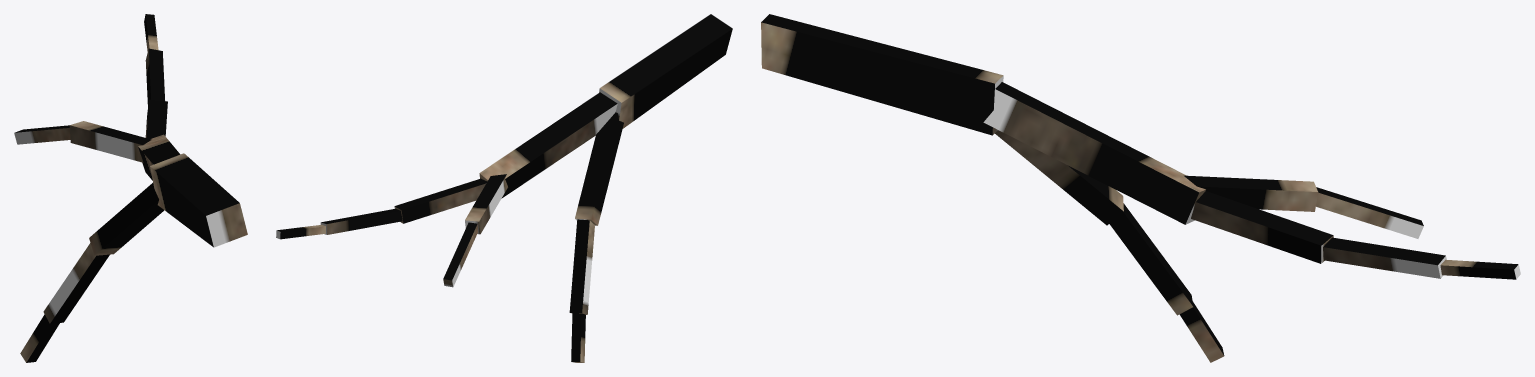
The model's file is whitebeam_twig_branch_3.obj.
The picture shows the model from 3 angles, left to right: view 1: azimuth 30°, elevation 25°; view 2: azimuth 150°, elevation 25°; view 3: azimuth 270°, elevation 25°; orthographic projection. The views are drawn at different scales.
Visible parts, largest first — view 1: cube; view 2: cube; view 3: cube.
Boxes of the visible parts, x1,y1,x2,y2 form: cube: (14, 14, 247, 362); cube: (276, 14, 732, 362); cube: (761, 14, 1520, 362).
Size of the model in its own units: 1.37 by 1.49 by 2.91.
